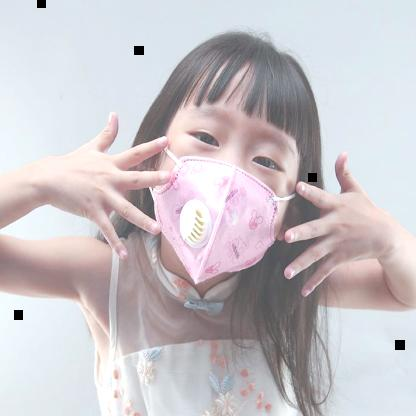mask: (128, 21, 320, 293)
